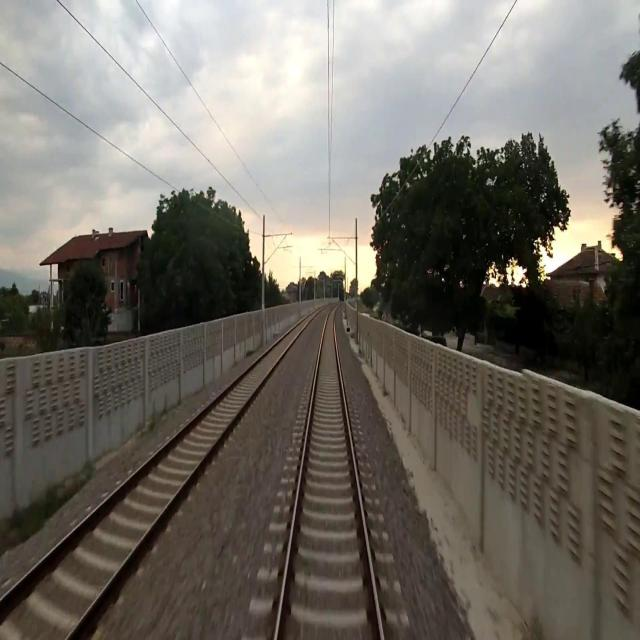rail-track: (279, 308, 379, 639)
